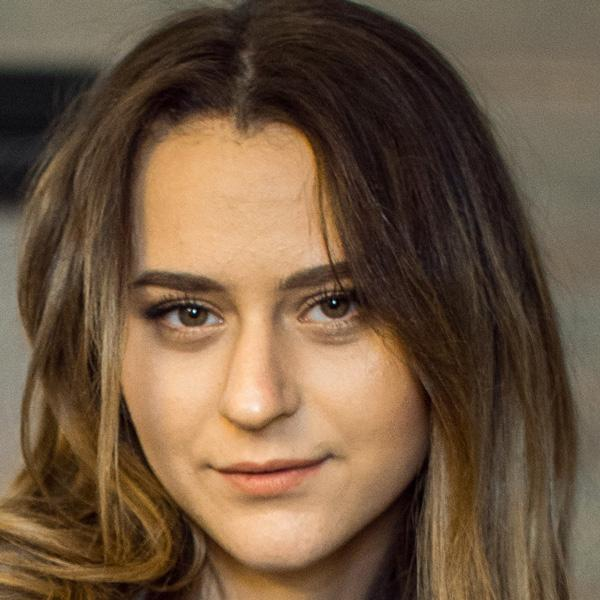Eyes: (134, 282, 240, 348), (288, 279, 385, 338)
